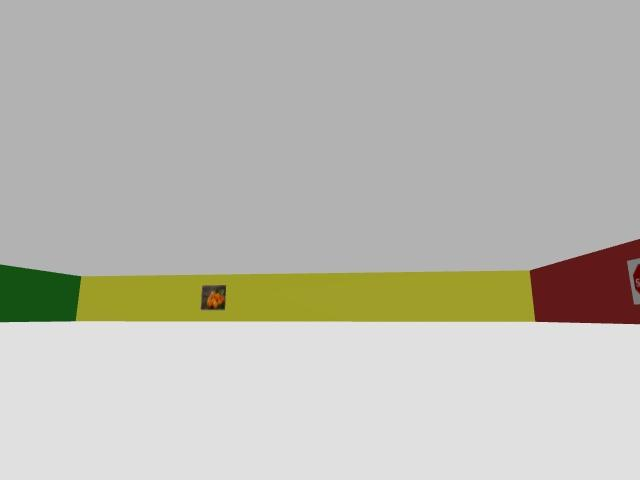orange: (207, 291, 224, 308), (207, 297, 212, 307), (212, 300, 218, 308), (208, 292, 214, 299), (215, 298, 221, 304), (215, 293, 220, 300), (220, 295, 224, 302), (218, 291, 223, 295), (217, 293, 222, 297), (213, 303, 217, 308), (219, 292, 223, 296)
stopsign: (629, 258, 639, 304)
